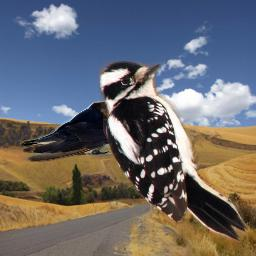Swallow: (20, 101, 129, 162)
Woodpecker: (98, 60, 250, 246)
